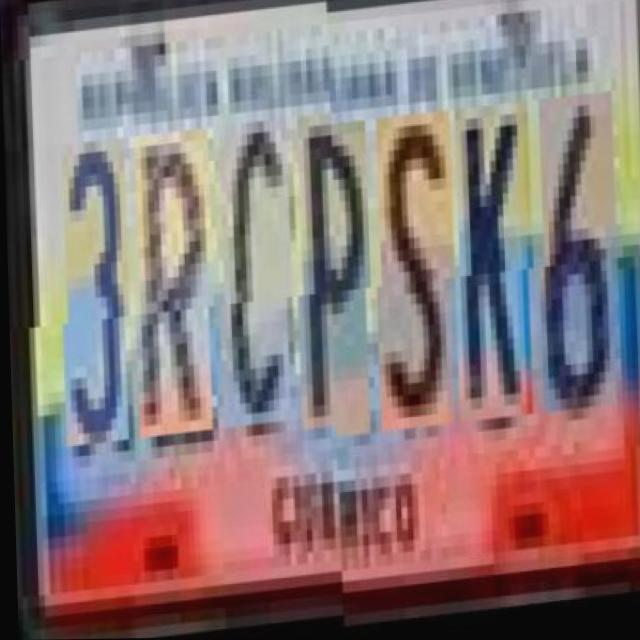3: (60, 152, 132, 459)
6: (537, 106, 620, 426)
c: (218, 137, 294, 444)
k: (453, 115, 536, 434)
p: (297, 129, 373, 448)
r: (134, 144, 216, 452)
s: (374, 122, 457, 441)
